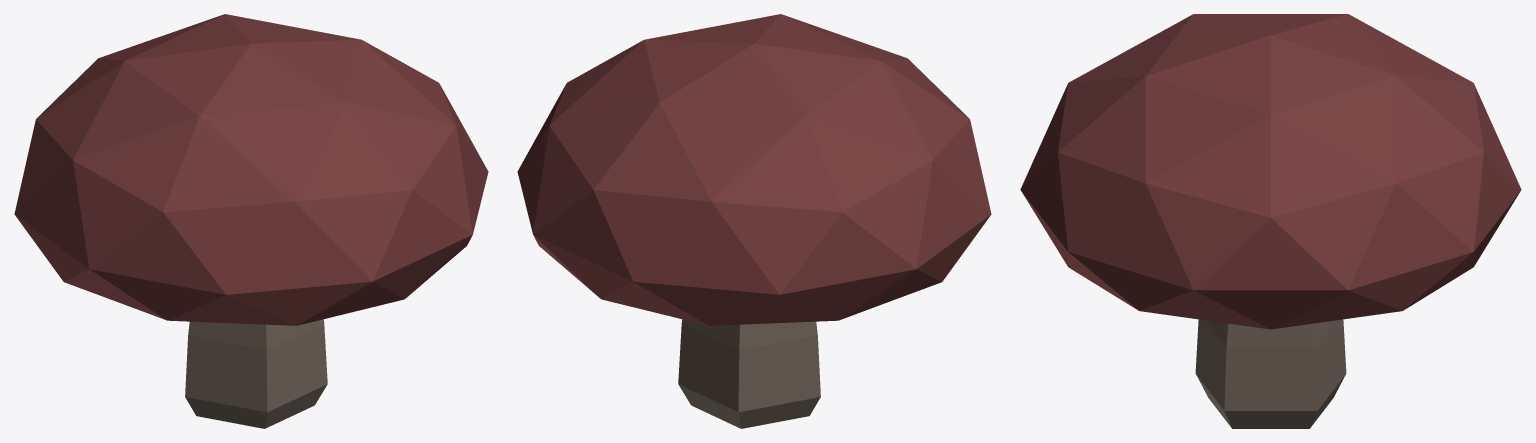
Rendered from mushroom.fbx.
The picture shows the model from 3 angles, left to right: view 1: azimuth 30°, elevation 25°; view 2: azimuth 150°, elevation 25°; view 3: azimuth 270°, elevation 25°; orthographic projection. The views are drawn at different scales.
Parts seen in each view (by area): view 1: mushroom; view 2: mushroom; view 3: mushroom.
Boxes of the visible parts, box(x1,y1,x2,y2) form: mushroom: box(14, 14, 488, 428); mushroom: box(517, 14, 991, 428); mushroom: box(1020, 14, 1521, 428).
Bounding box in the file's own units: 1.9 × 1.63 × 2.
